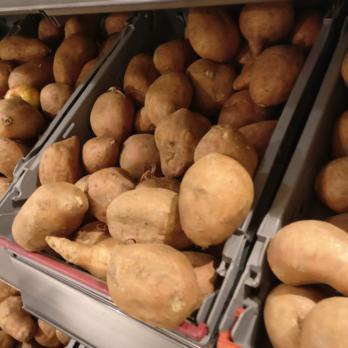Sweet potato: (21, 136, 254, 330), (92, 49, 281, 136), (273, 216, 348, 348), (179, 8, 309, 48), (2, 16, 33, 158), (36, 11, 61, 108), (0, 295, 32, 345), (67, 16, 84, 84)
